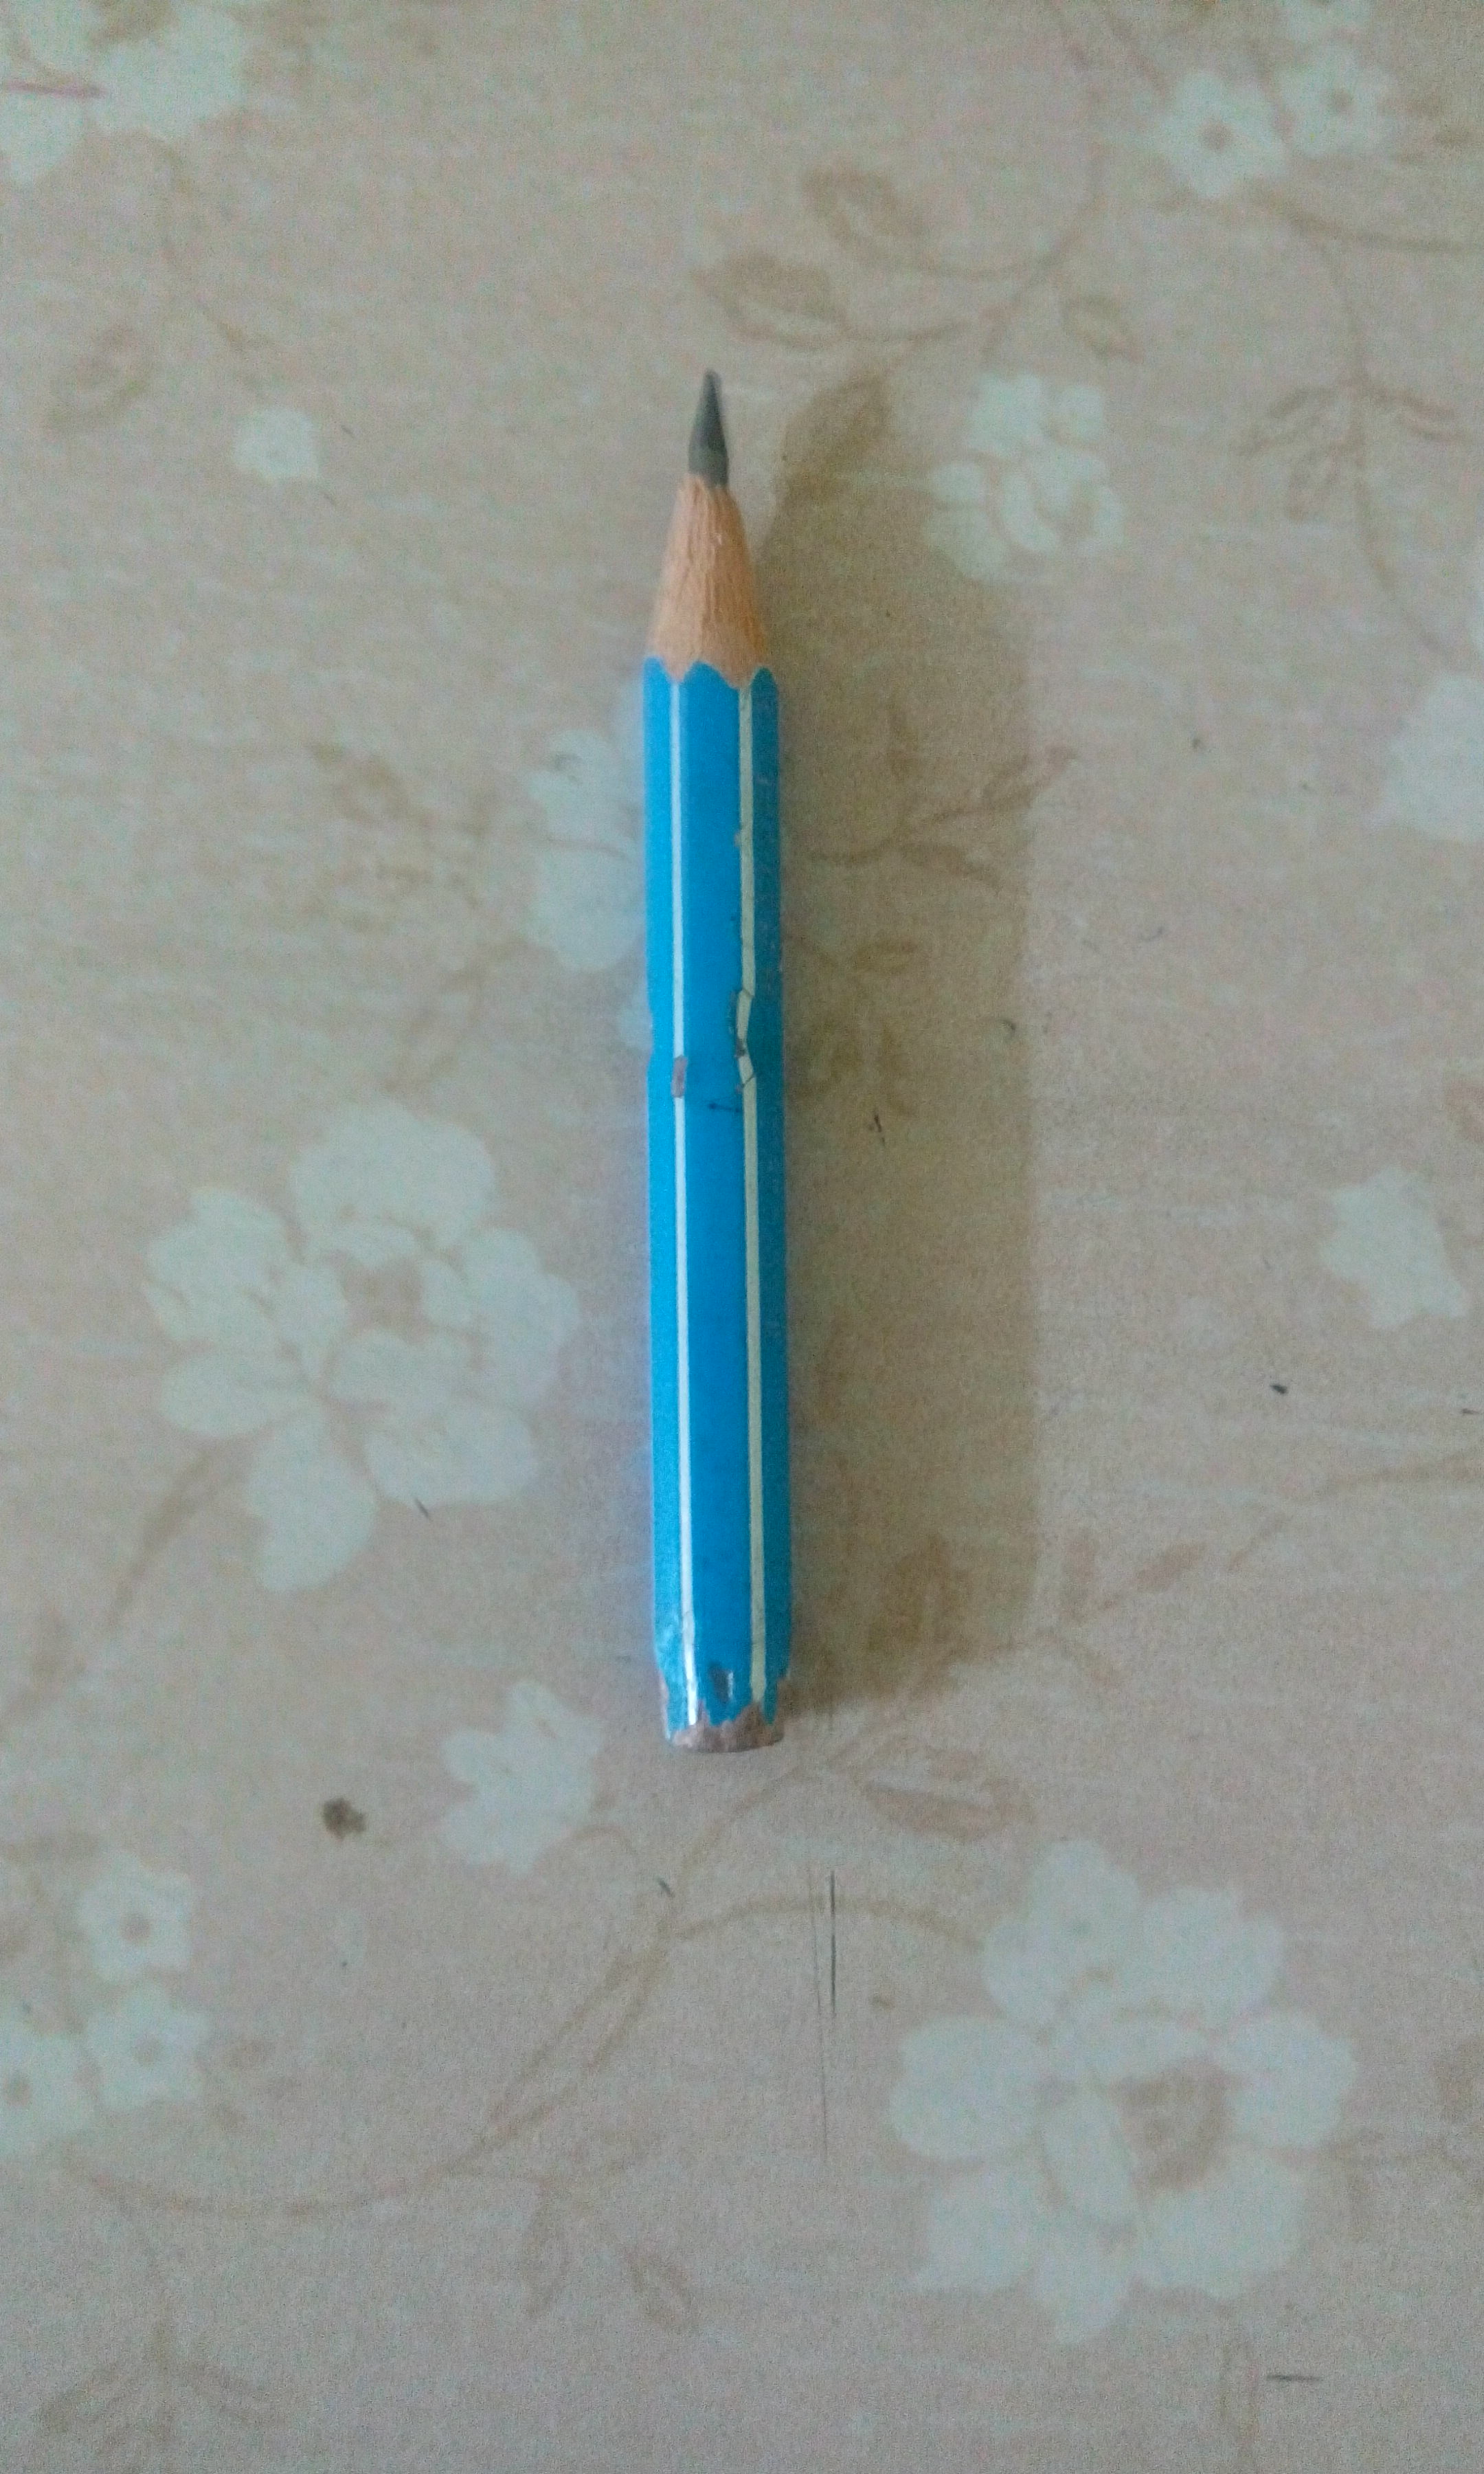pen_tip: (525, 277, 905, 770)
